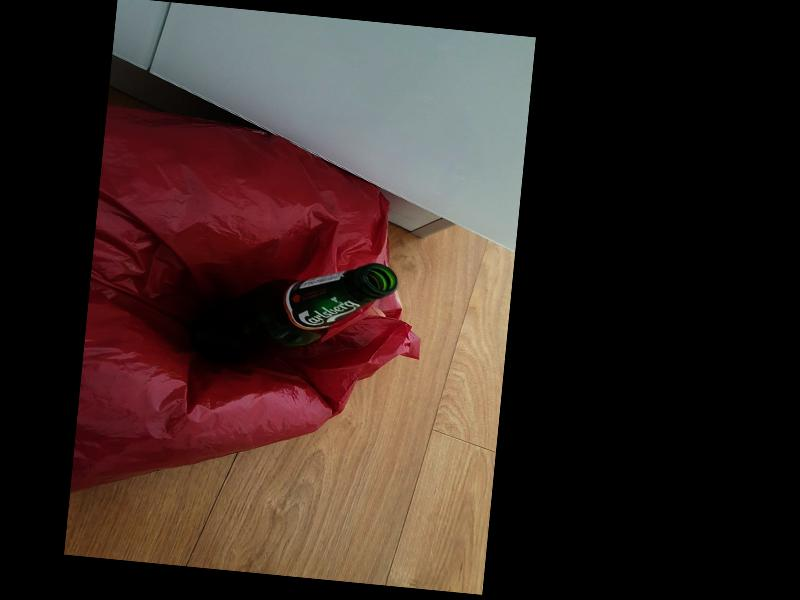Beer: (191, 247, 400, 380)
